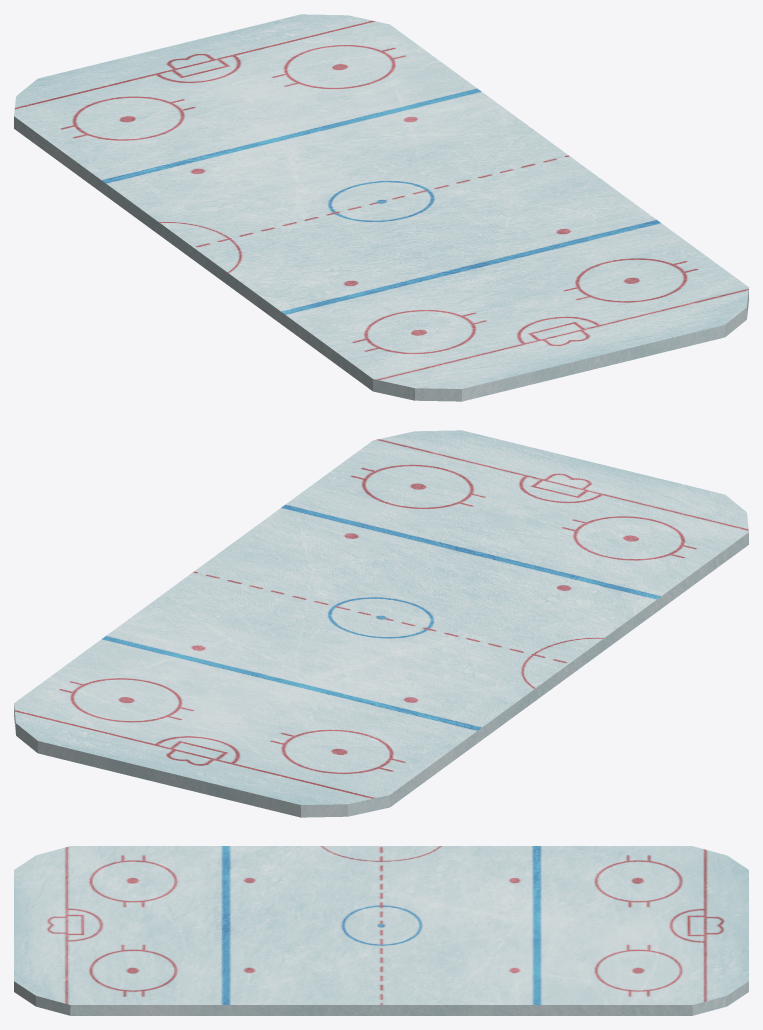
The model's file is Floor_Mesh.fbx.
3 views of the same model, one above another, from view 1: azimuth 30°, elevation 25°; view 2: azimuth 150°, elevation 25°; view 3: azimuth 270°, elevation 25° (orthographic). The views are drawn at different scales.
Visible parts, largest first — view 1: Floor_Mesh; view 2: Floor_Mesh; view 3: Floor_Mesh.
Part boxes in pixels (x1=…): Floor_Mesh: x1=14, y1=14, x2=748, y2=401; Floor_Mesh: x1=14, y1=430, x2=748, y2=817; Floor_Mesh: x1=14, y1=846, x2=748, y2=1015.
Bounding box in the file's own units: 3144 × 100 × 6144.
